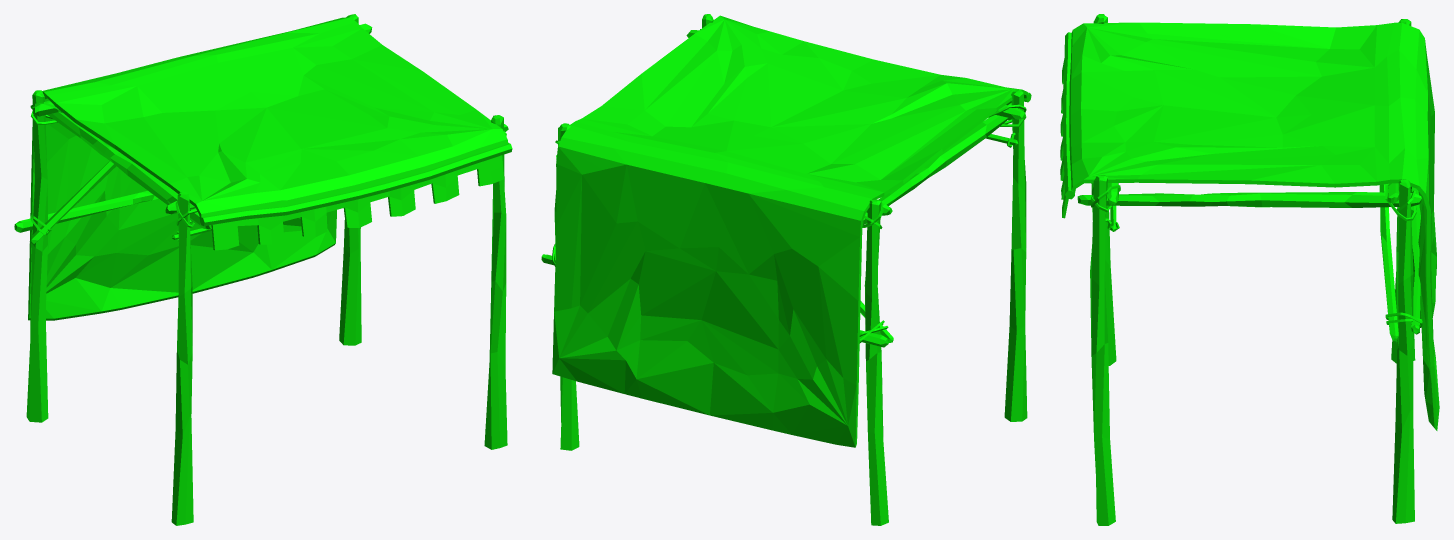
Rendered from SM_Tent_Spice_Fantasy.fbx.
3 views of the same model, side by side, from view 1: azimuth 30°, elevation 25°; view 2: azimuth 150°, elevation 25°; view 3: azimuth 270°, elevation 25° (orthographic). The views are drawn at different scales.
Parts seen in each view (by area): view 1: tent-spice-fantasy; view 2: tent-spice-fantasy; view 3: tent-spice-fantasy.
Part boxes in pixels (<box>): tent-spice-fantasy: <box>14,14,512,525</box>; tent-spice-fantasy: <box>541,14,1031,525</box>; tent-spice-fantasy: <box>1060,14,1439,525</box>.
Bounding box in the file's own units: 3.13 × 2.81 × 2.79.
